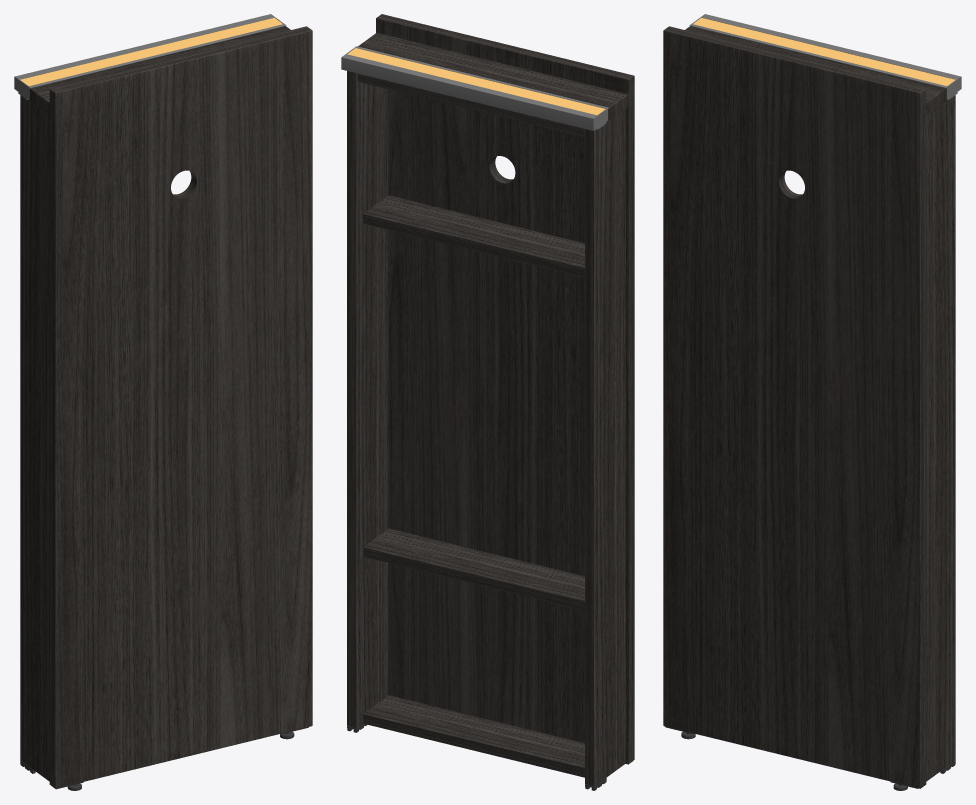
Rendered from DFIB00459.glb.
The picture shows the model from 3 angles, left to right: view 1: azimuth 30°, elevation 25°; view 2: azimuth 150°, elevation 25°; view 3: azimuth 330°, elevation 25°; orthographic projection.
Visible parts, largest first — view 1: BP_DFIB00459; view 2: BP_DFIB00459; view 3: BP_DFIB00459.
Boxes of the visible parts, left/top/right/bottom form: BP_DFIB00459: left=14, top=14, right=312, bottom=790; BP_DFIB00459: left=341, top=14, right=634, bottom=790; BP_DFIB00459: left=663, top=14, right=961, bottom=790.
Bounding box in the file's own units: 0.46 × 1.2 × 0.13.
Materials: 4 (1 with a texture image).
